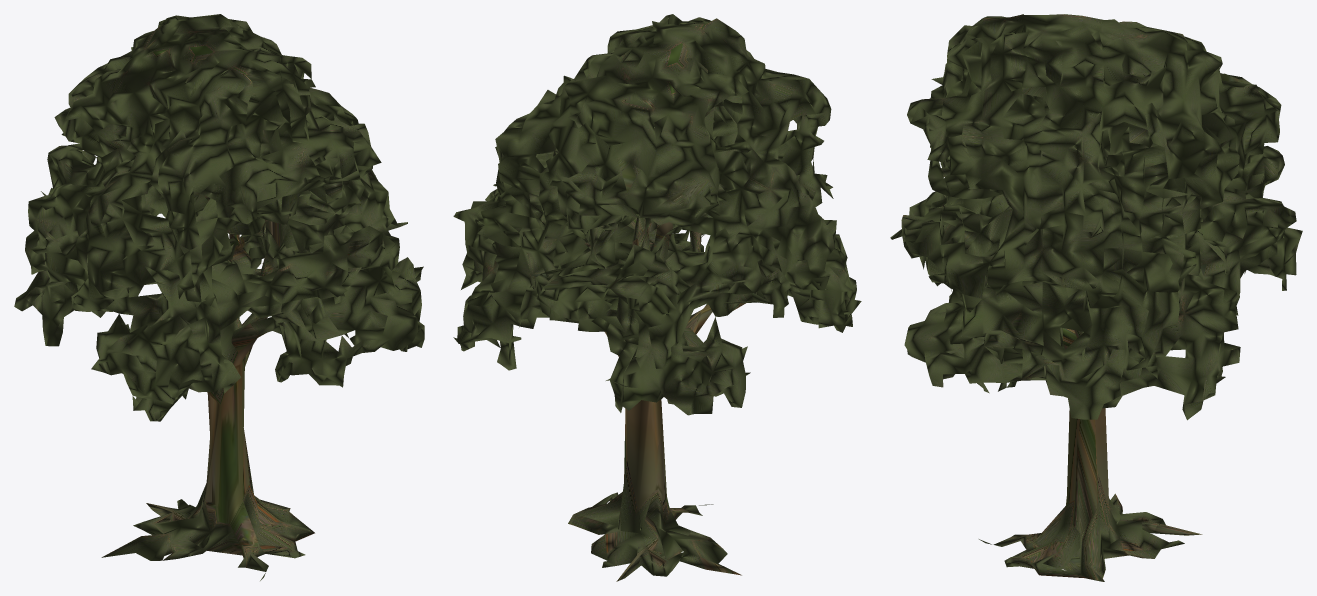
3 renders of one model, left to right at view 1: azimuth 30°, elevation 25°; view 2: azimuth 150°, elevation 25°; view 3: azimuth 270°, elevation 25°, orthographic. The views are drawn at different scales.
Size of the model in its own units: 1.36 by 1.99 by 1.41.
Materials: 1 (1 with a texture image).
